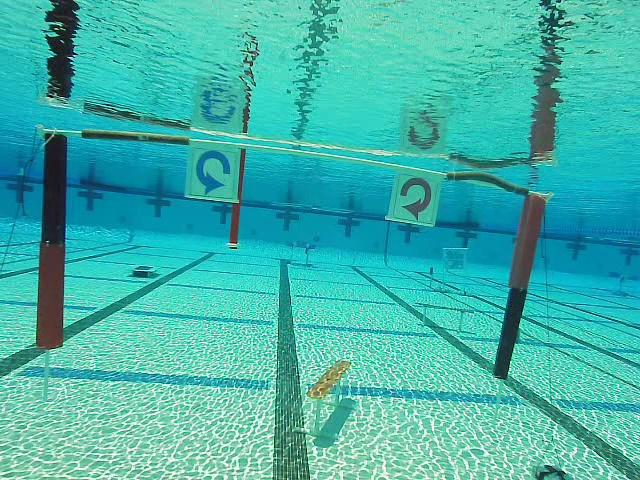dropper: (131, 262, 157, 279)
gate: (35, 128, 550, 381)
gate_blue: (187, 144, 238, 201)
gate_leg_l: (36, 129, 68, 350)
gate_leg_r: (493, 190, 547, 380)
gate_red: (390, 171, 439, 226)
table: (283, 239, 316, 268)
torpedo: (441, 248, 469, 273)
